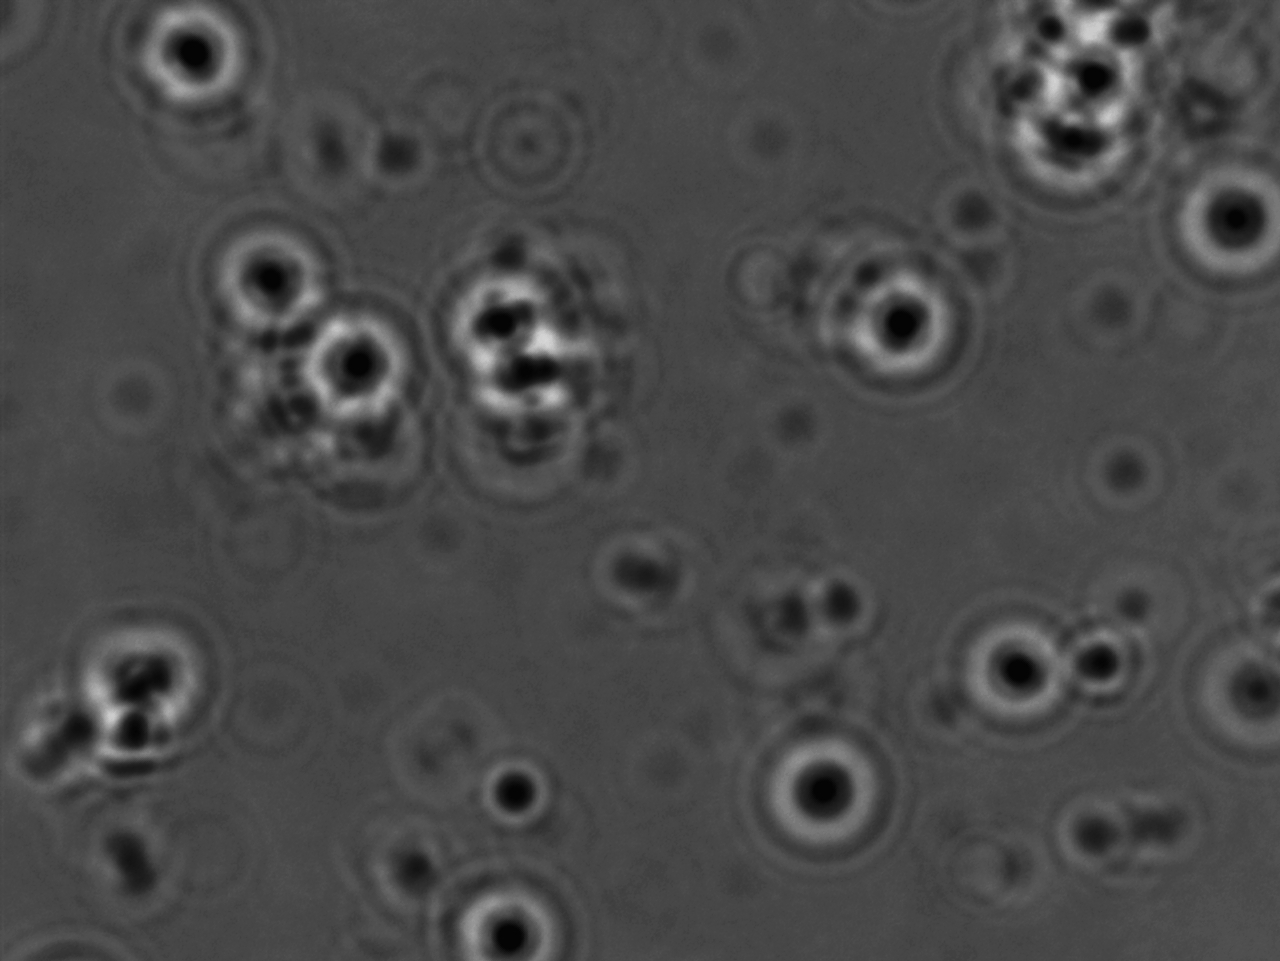depth:-24: (48, 582, 240, 739), (728, 719, 898, 870), (819, 268, 990, 415), (423, 259, 566, 401), (1135, 149, 1280, 288), (275, 300, 417, 427), (209, 210, 349, 336), (945, 606, 1075, 734), (432, 877, 593, 961)
